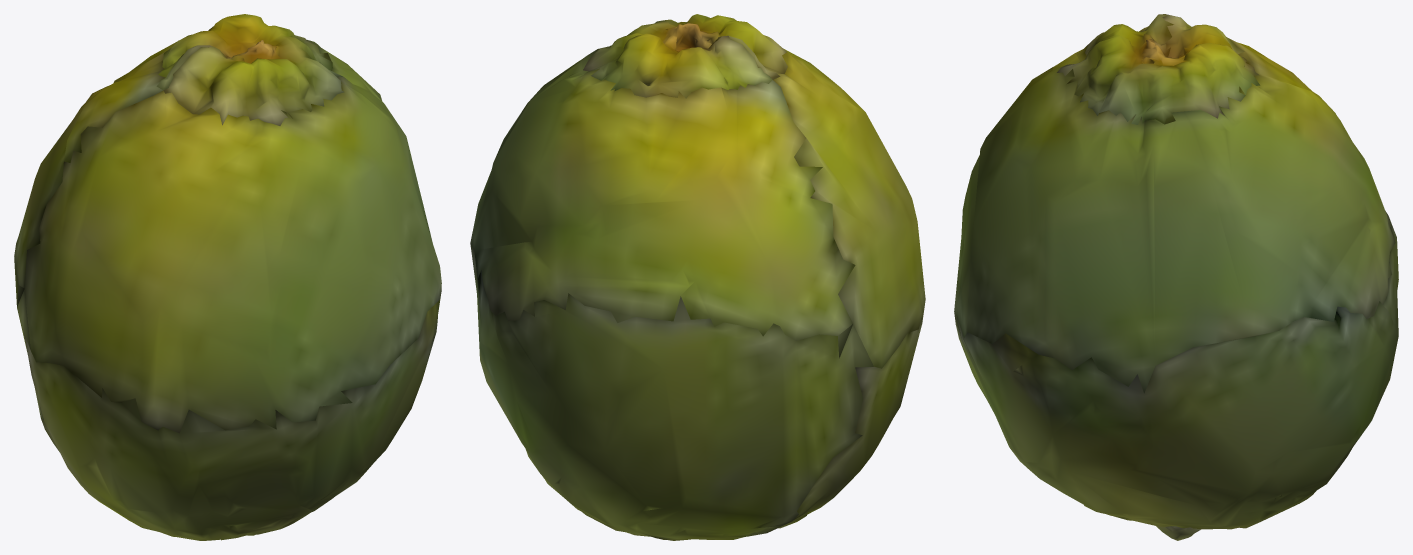
3 views of the same model, side by side, from view 1: azimuth 30°, elevation 25°; view 2: azimuth 150°, elevation 25°; view 3: azimuth 270°, elevation 25° (orthographic).
Parts seen in each view (by area): view 1: food_lime_01; view 2: food_lime_01; view 3: food_lime_01.
Boxes of the visible parts, x1,y1,x2,y2 form: food_lime_01: (14,14,441,540); food_lime_01: (470,14,925,540); food_lime_01: (954,14,1398,540).
Bounding box in the file's own units: 0.0599 × 0.0754 × 0.0603.
Materials: 1 (1 with a texture image).
